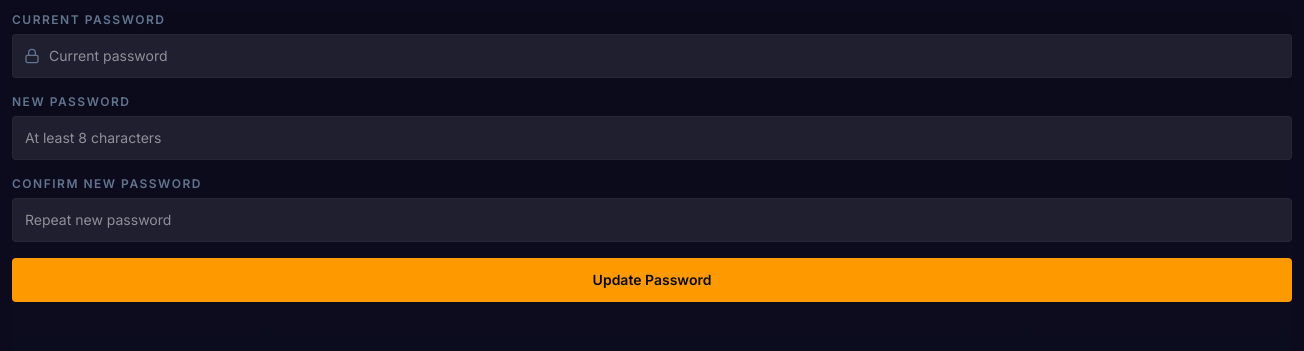
ChangePasswordForm › rejects passwords shorter than 8 characters
This screenshot has width=1304, height=351.
In the password field with placeholder "Current password": [652, 56] box [12,34,1292,78], type "current-password"
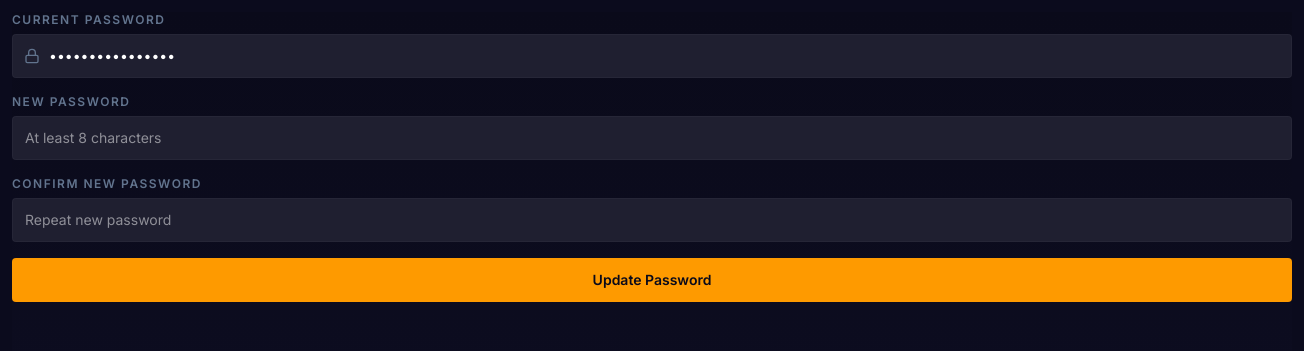
In the password field with placeholder "At least 8 characters": [652, 138] box [12,116,1292,160], type "short"
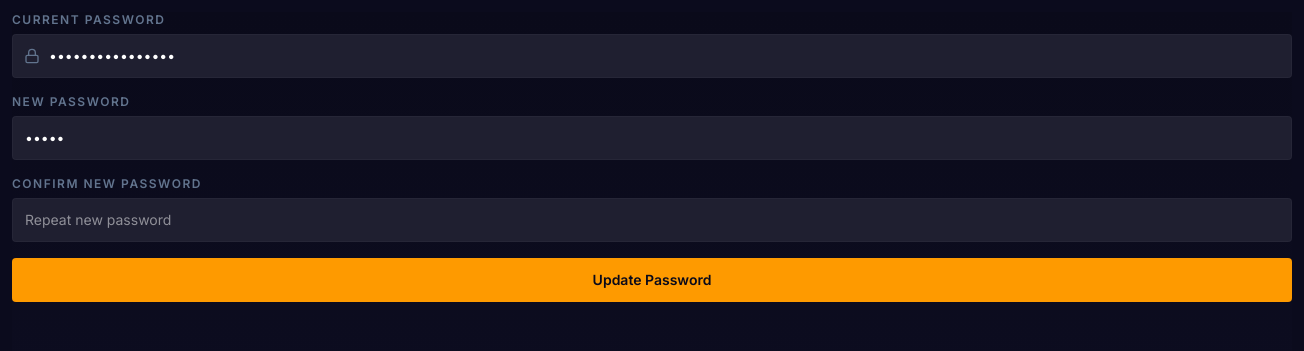
In the password field with placeholder "Repeat new password": [652, 220] box [12,198,1292,242], type "short"
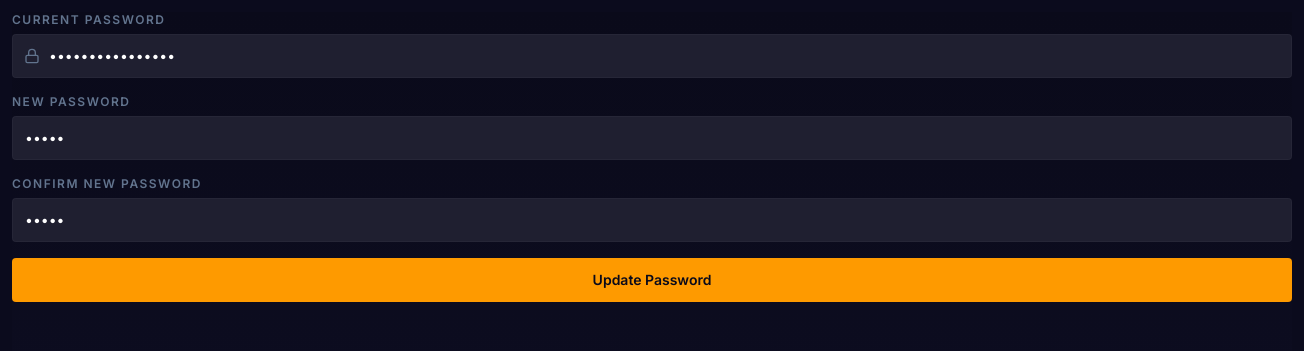
Click the button "Update Password": [652, 280] box [12,258,1292,302]
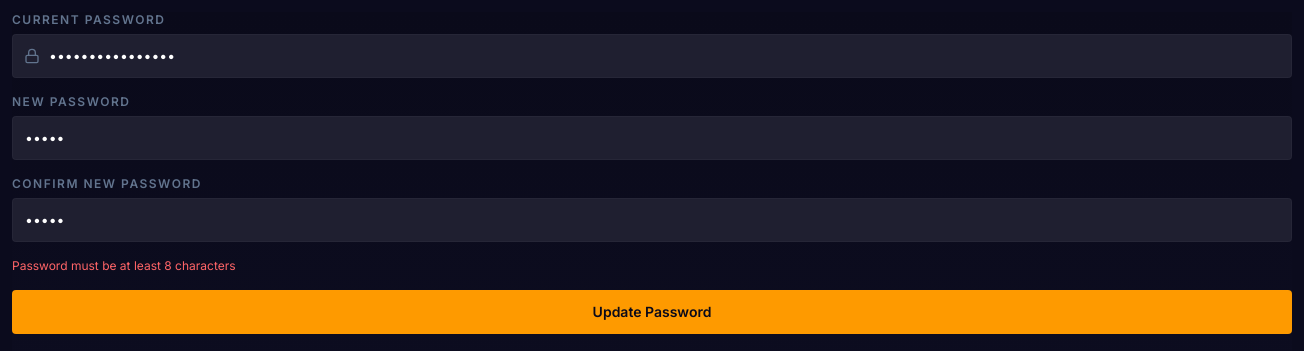
Expected: the text "Password must be at least 8 characters" is shown, [12,258,236,273]
